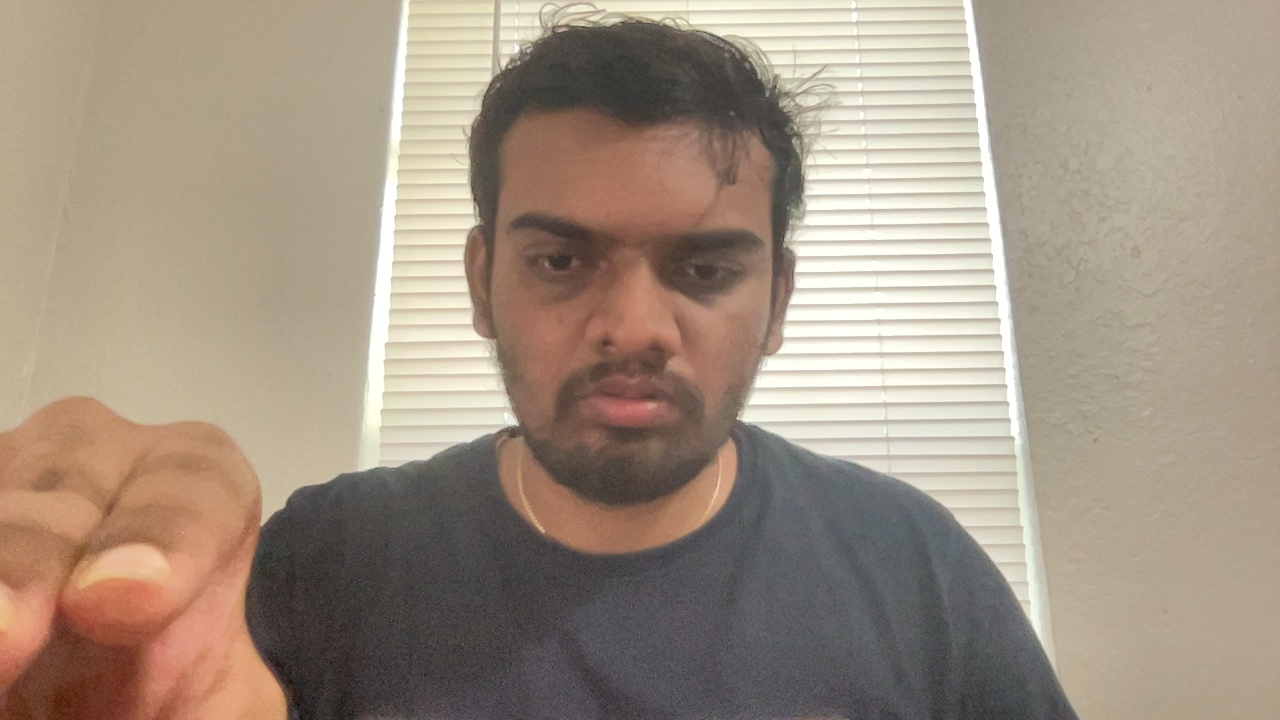no: (3, 391, 293, 720)
